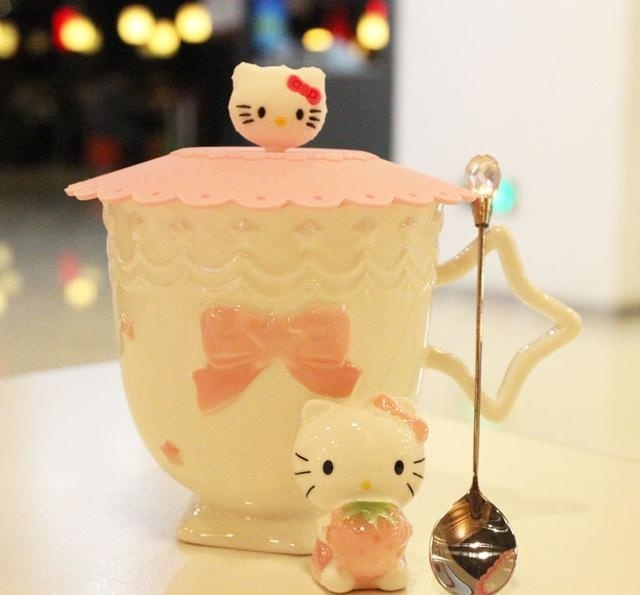cup: (98, 140, 587, 559)
